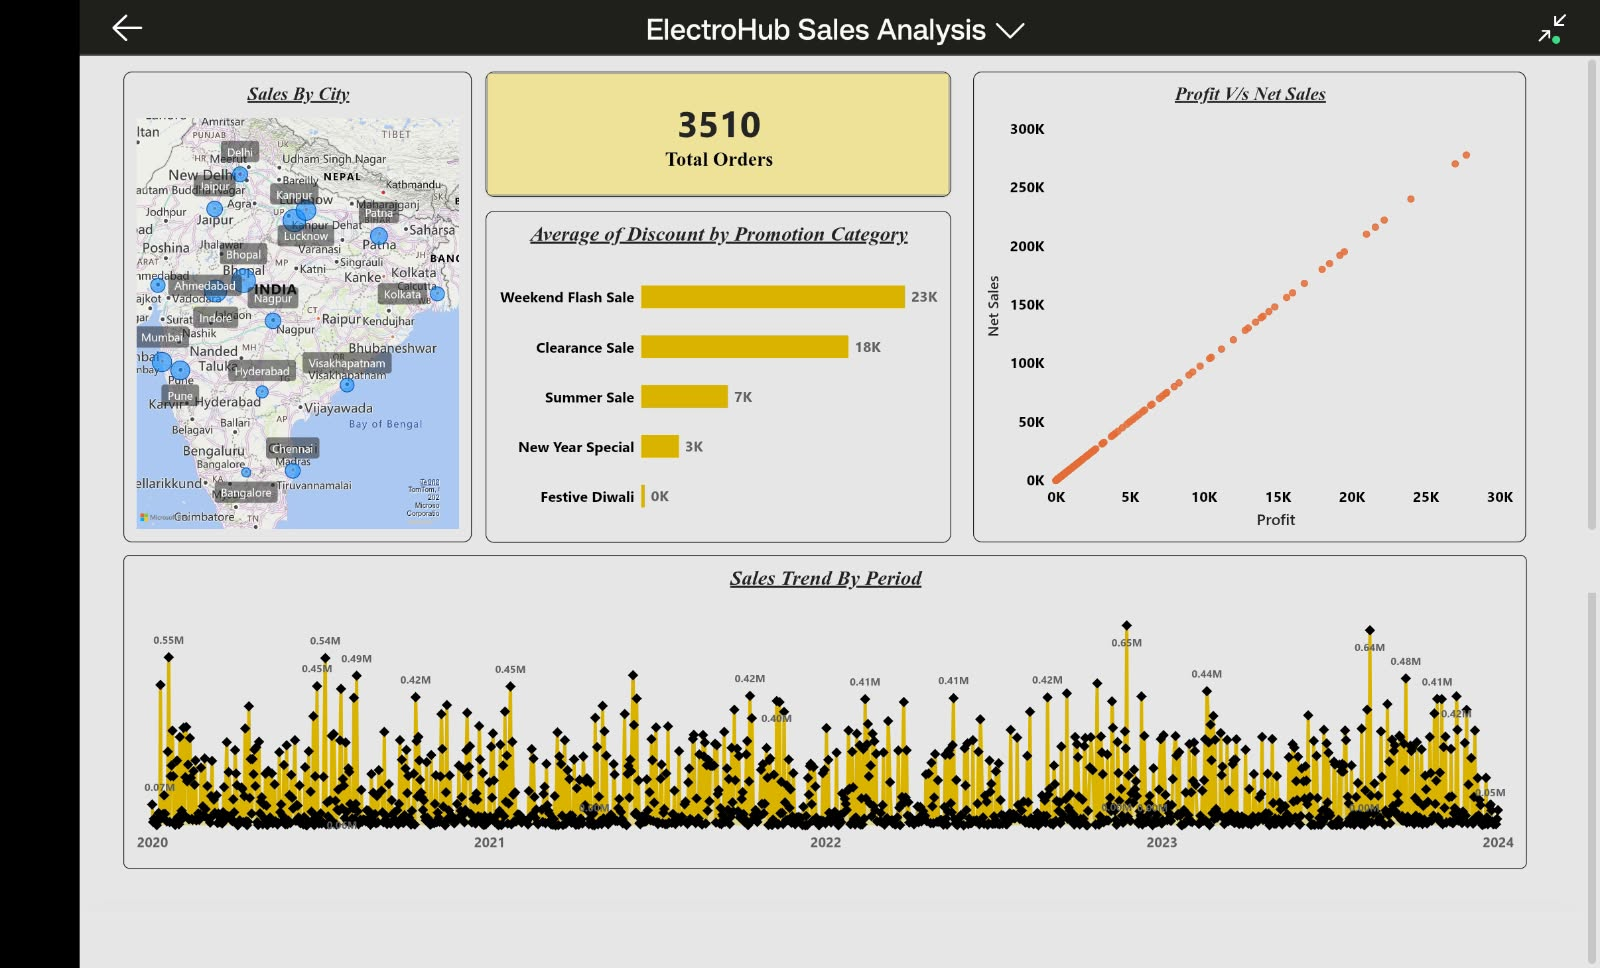

This screenshot's page, from the dashboard's own definition file:
{"tool":"powerbi","page":{"name":"Overview","canvas":[1920,1080],"ordinal":0},"visuals":[{"type":"lineChart","title":"Sales Trend By Period","fields":{"Category":["Fact Table.Date (dd/mm/yyyy).Variation.Date Hierarchy.Year"],"Y":["Sum(Fact Table.Net Sales)"]},"box":[56.3,642.4,1802.9,403.3],"z":0},{"type":"scatterChart","title":"Profit V/s Net Sales","fields":{"X":["Fact Table.Profit"],"Y":["Fact Table.Net Sales"]},"box":[1148.8,21.1,710.4,604.9],"z":1000},{"type":"barChart","title":"Average of Discount by Promotion Category","fields":{"Category":["Dim Promotion.Promotion Name"],"Y":["Avg(Fact Table.Discount)"]},"box":[522.8,199.3,597.8,426.7],"z":2000},{"type":"map","title":"Sales By City","fields":{"Category":["Dim Customers.City"],"Size":["Sum(Fact Table.Net Sales)"]},"box":[56.3,21.1,447.8,604.9],"z":3000},{"type":"cardVisual","fields":{"Data":["CountNonNull(Fact Table.Order ID)"]},"box":[522.8,21.1,598,161],"z":4000}]}

Visuals, with their boxes on the page's 1920x1080 design canvas (x1, y1, x2, y2). These are canvas units, not pixel positions in the 1600x968 screenshot, which may show the page scaled, cropped or inside an application window:
"Sales Trend By Period" lineChart: 56:642:1859:1046
"Profit V/s Net Sales" scatterChart: 1149:21:1859:626
"Average of Discount by Promotion Category" barChart: 523:199:1121:626
"Sales By City" map: 56:21:504:626
cardVisual - CountNonNull(Fact Table.Order ID): 523:21:1121:182
